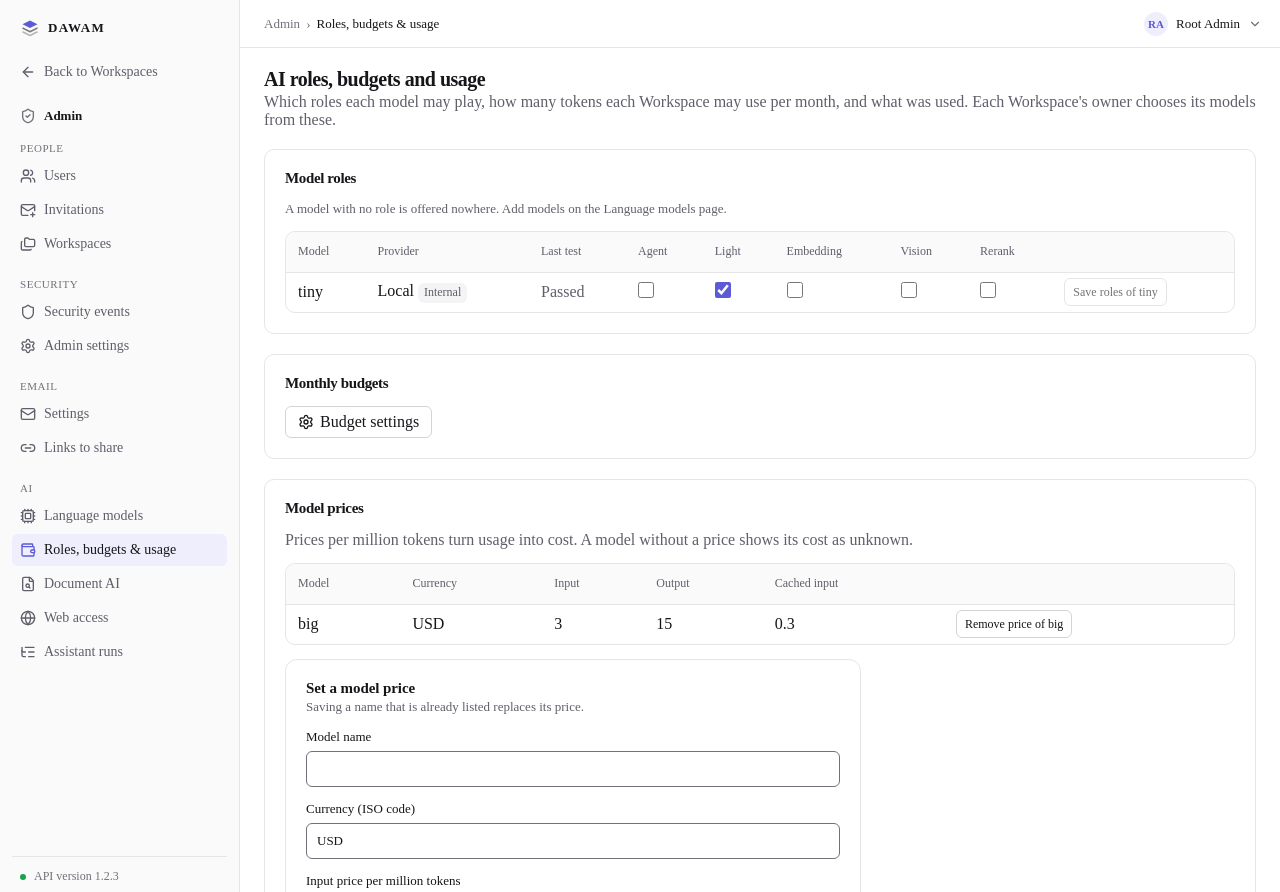
Test: AI roles, budgets and usage page › shows why a model is rejected for the agent role
The width and height of the screenshot is (1280, 892).
Click the checkbox named "Agent role of tiny" at x=646, y=290, box x1=638 y1=282 x2=654 y2=298
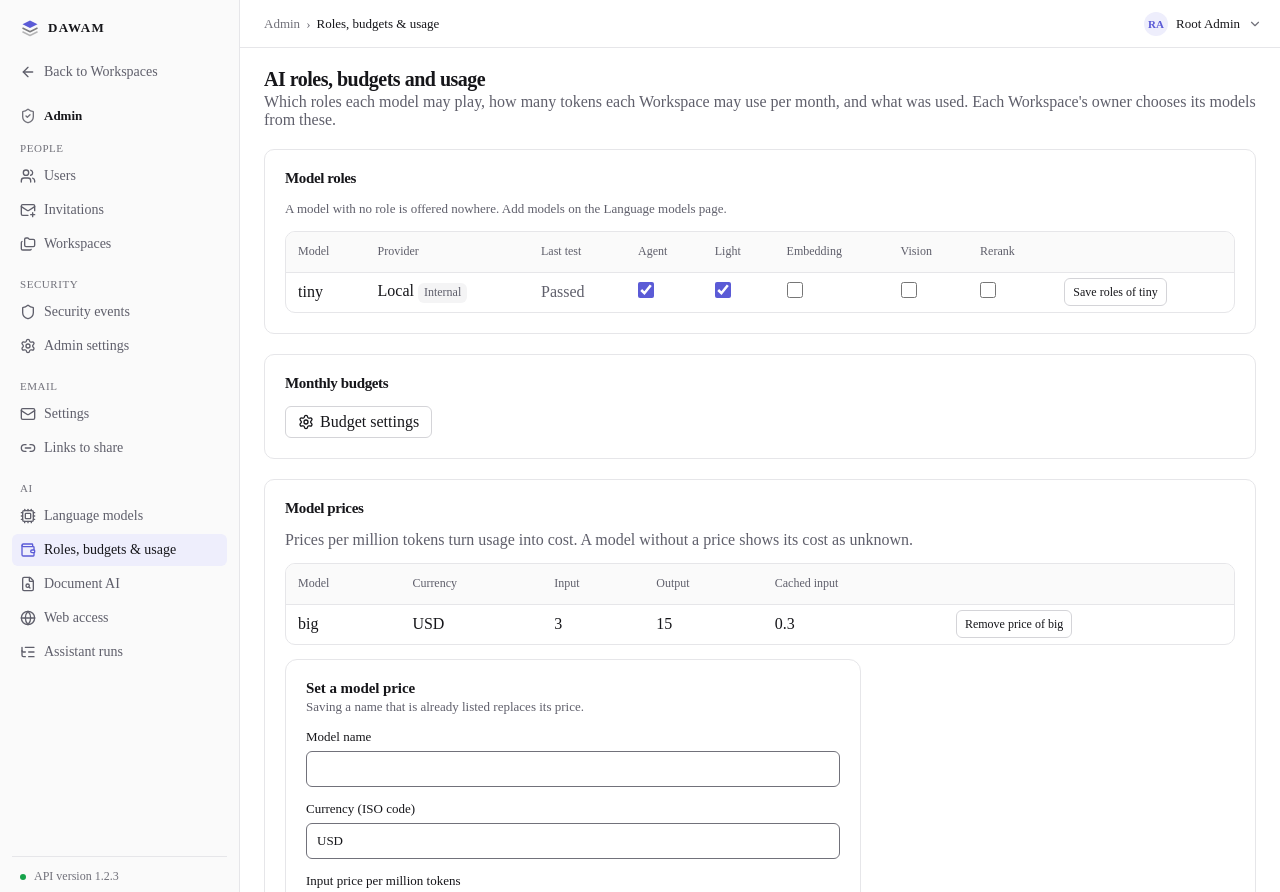
Click the button "Save roles of tiny" at x=1116, y=292, box x1=1064 y1=278 x2=1167 y2=306
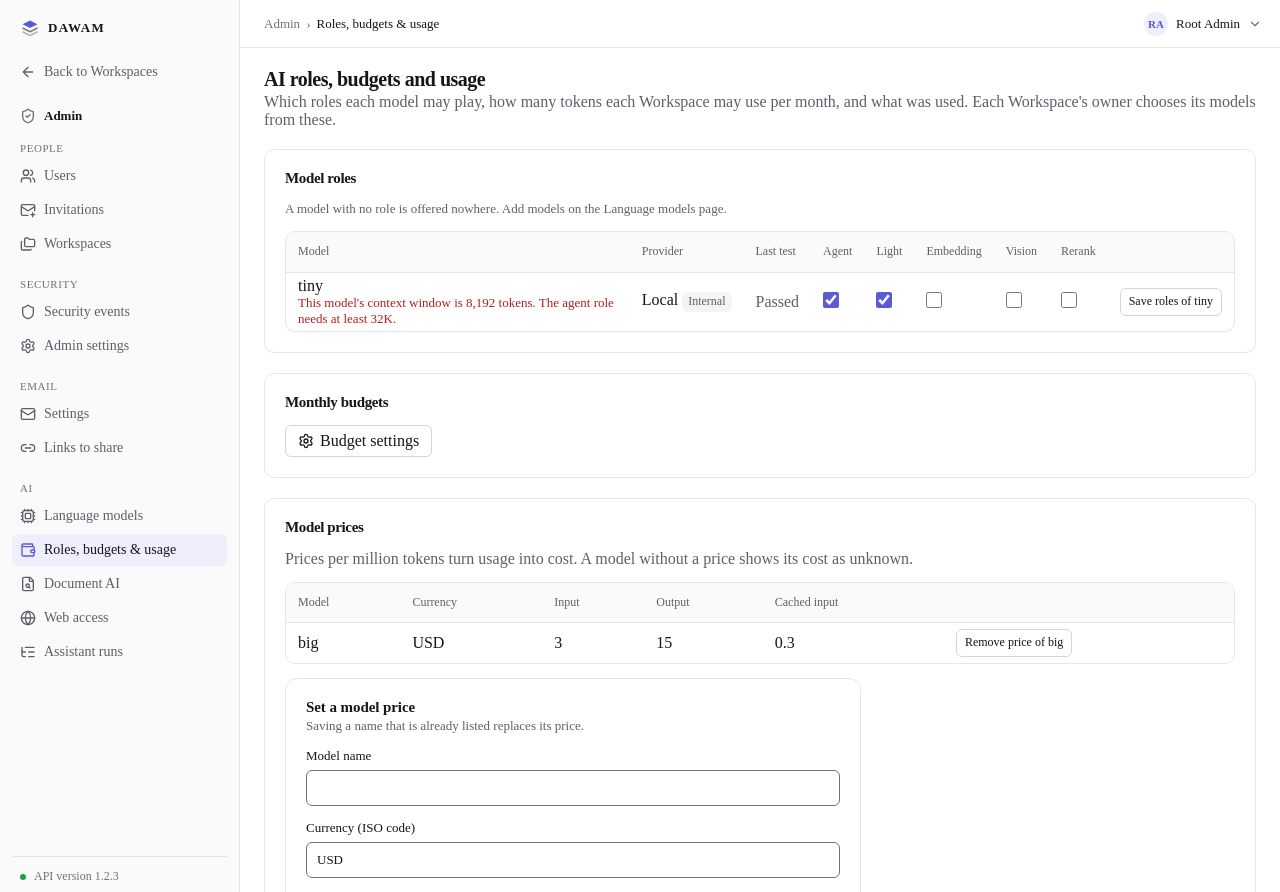
Result: the message shows "needs at least 32K" at x1=298 y1=294 x2=614 y2=326
